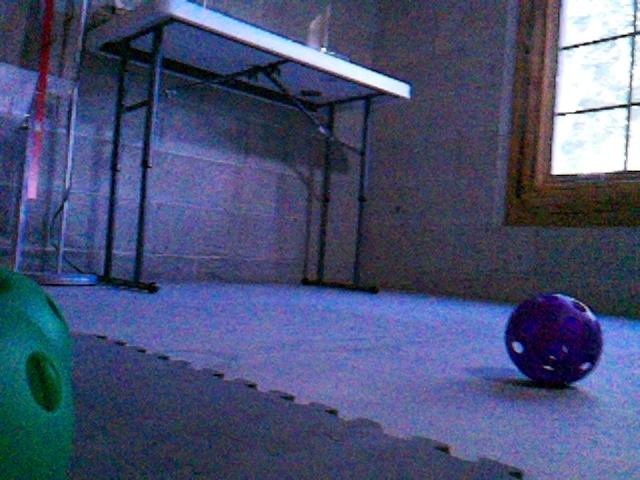Green: (0, 265, 75, 477)
Purple: (502, 292, 603, 386)
